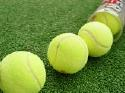tennis ball: (1, 50, 46, 92), (47, 33, 89, 75), (77, 21, 113, 57)
